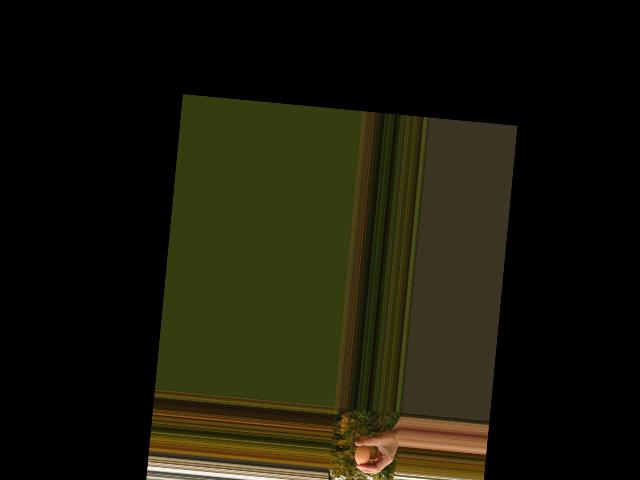egg: (353, 444, 370, 466)
